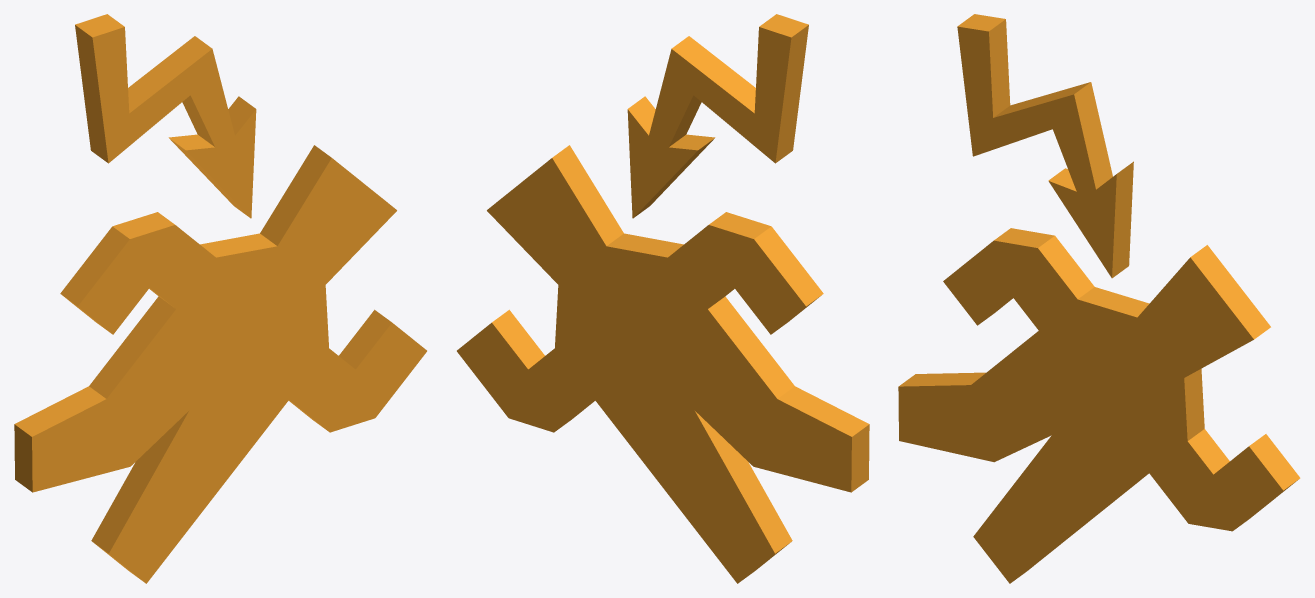
Rendered from scifi-scifi-sign-pedestrian-electric.glb.
3 views of the same model, side by side, from view 1: azimuth 30°, elevation 25°; view 2: azimuth 150°, elevation 25°; view 3: azimuth 330°, elevation 25° (orthographic). The views are drawn at different scales.
Parts seen in each view (by area): view 1: scifi-sign-pedestrian-electric; view 2: scifi-sign-pedestrian-electric; view 3: scifi-sign-pedestrian-electric.
Boxes of the visible parts, left/top/right/bottom form: scifi-sign-pedestrian-electric: left=14, top=14, right=426, bottom=583; scifi-sign-pedestrian-electric: left=457, top=14, right=869, bottom=583; scifi-sign-pedestrian-electric: left=898, top=14, right=1300, bottom=583.
Bounding box in the file's own units: 0.6496 × 0.8825 × 0.05.
